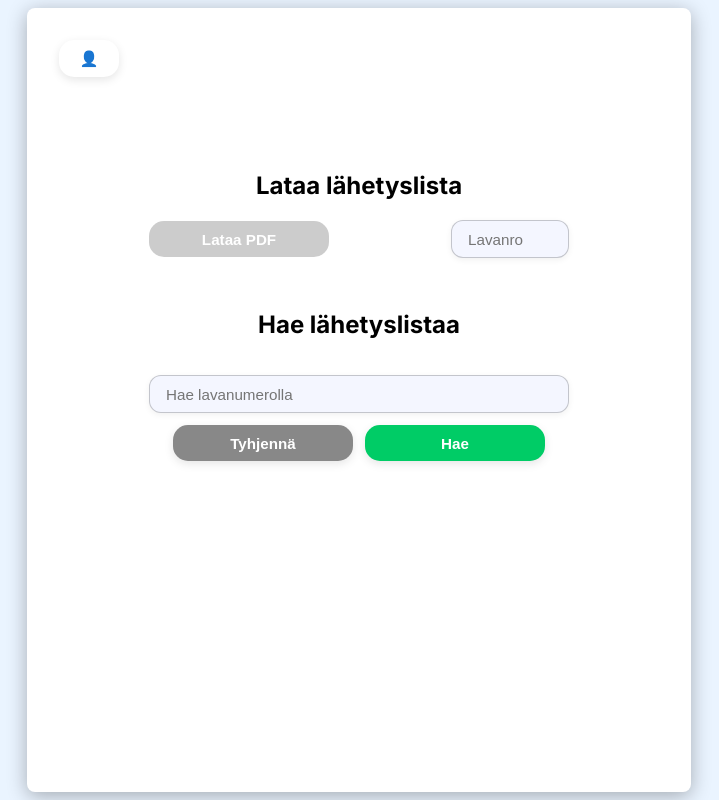
it: InspectDocument-sivu (dokumentin muokkaus) › 2.5 Koodi-kenttä on muokattavissa
This screenshot has width=719, height=800.
Click the button with class "user-change" at (89, 59), box [59,40,119,77]
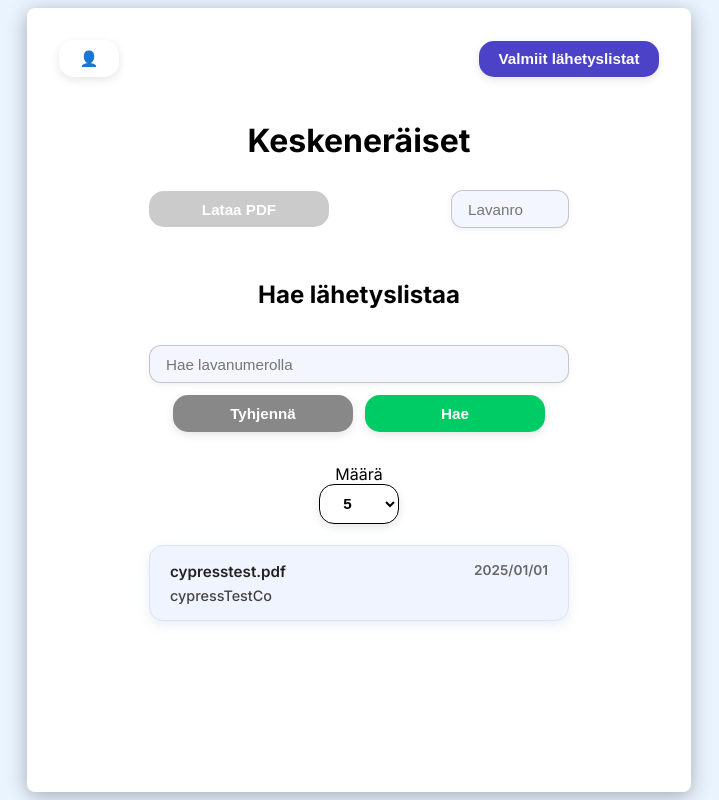
Now the element with class "document-container" is shown, box [149,540,569,626]
Click the element with class "document" at (359, 583), box [149,545,569,621]
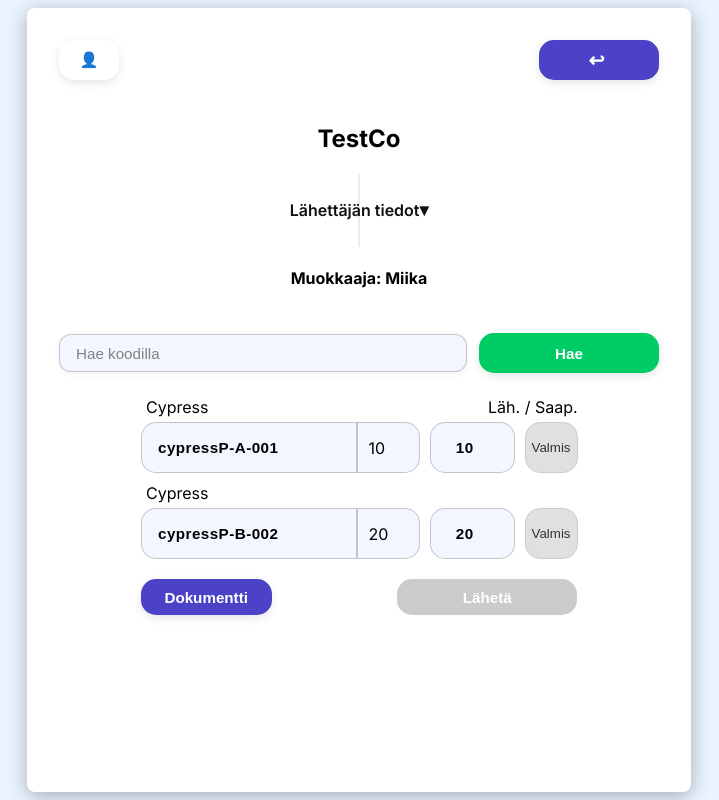
Now the element that starts with "TestCo" is shown, box [59,40,659,615]
Type "TEST-CODE-123" into the field with class "input-field-text" next to "10" at (250, 448), box [141,422,358,473]
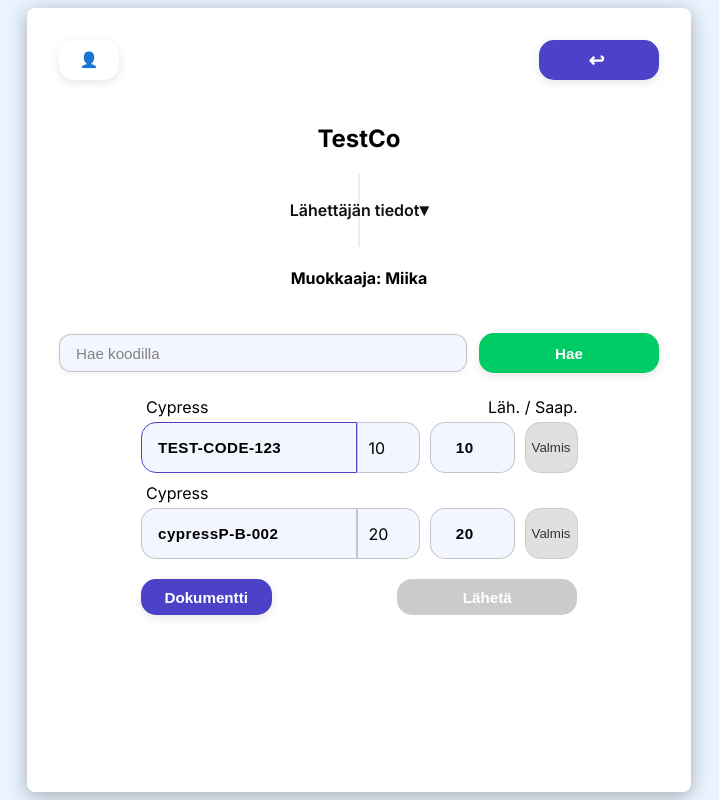
Now the field with class "input-field-text" next to "10" holds "TEST-CODE-123", box [141,422,358,473]
